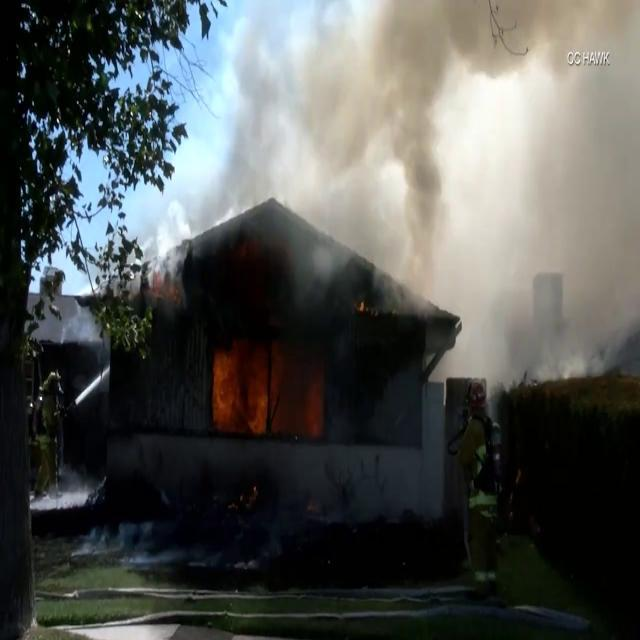Fire: (208, 336, 282, 438)
Smoke: (218, 1, 640, 362)
